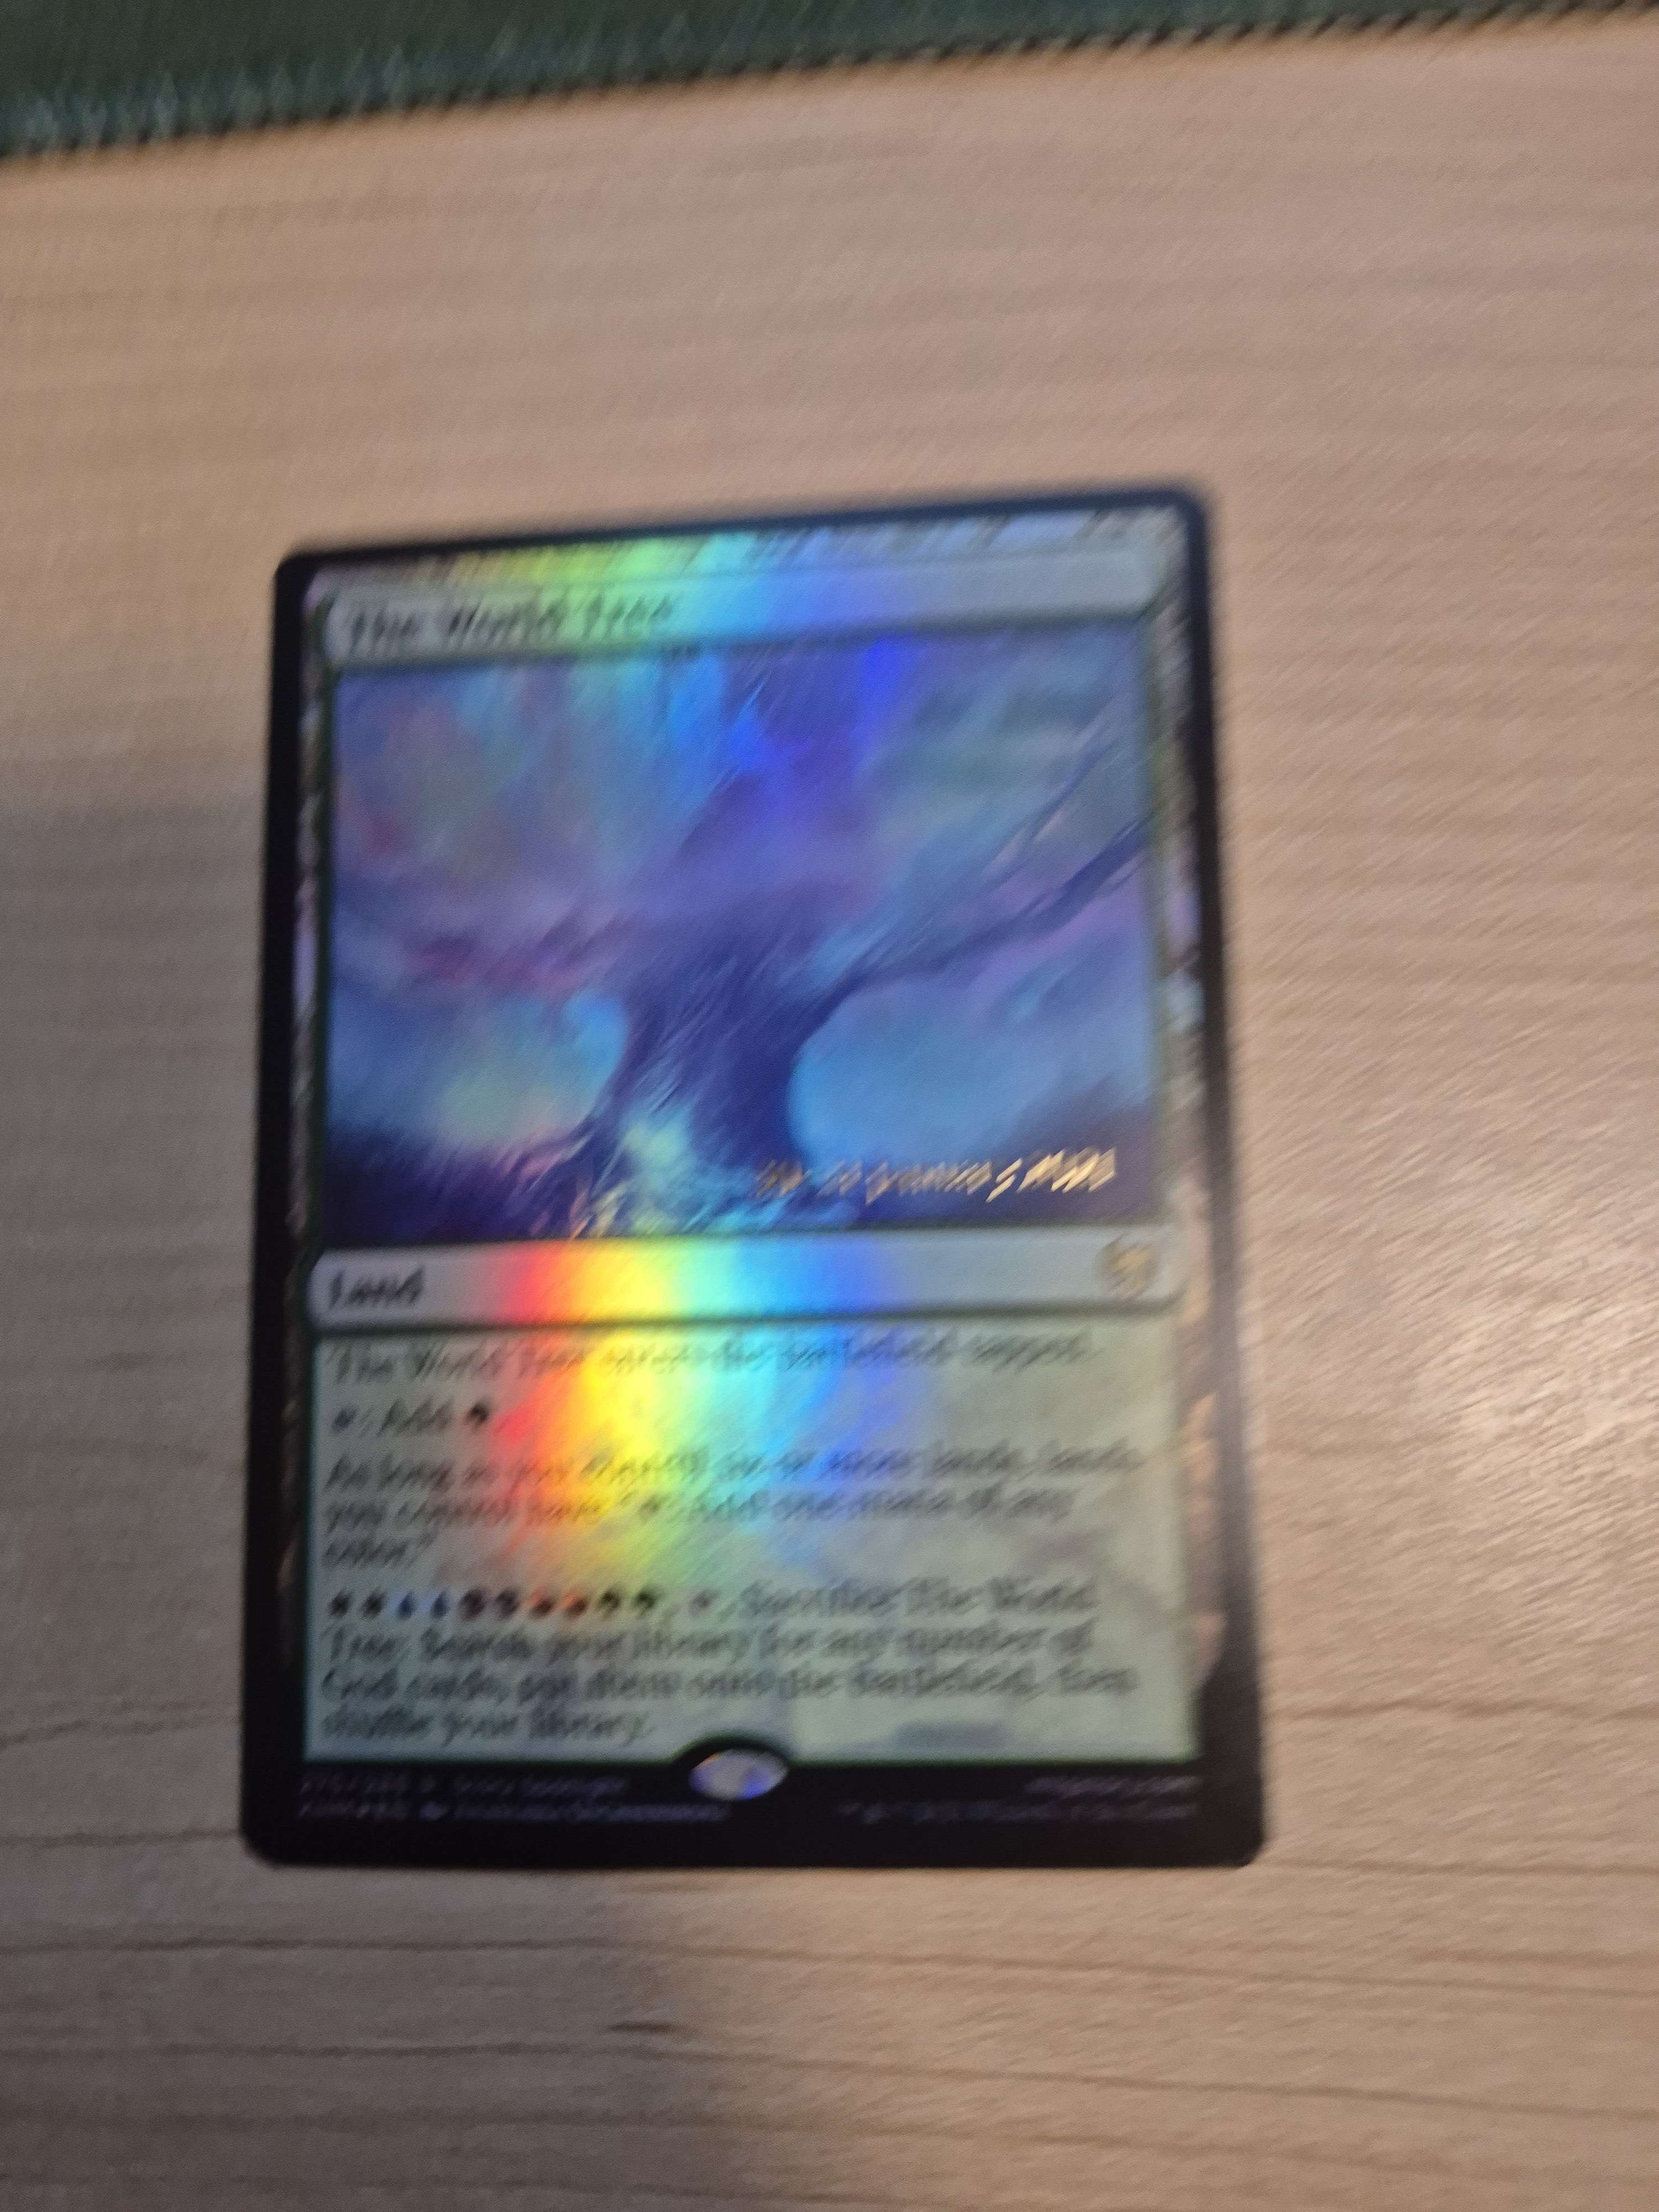mtg_card: (237, 523, 1288, 1878)
